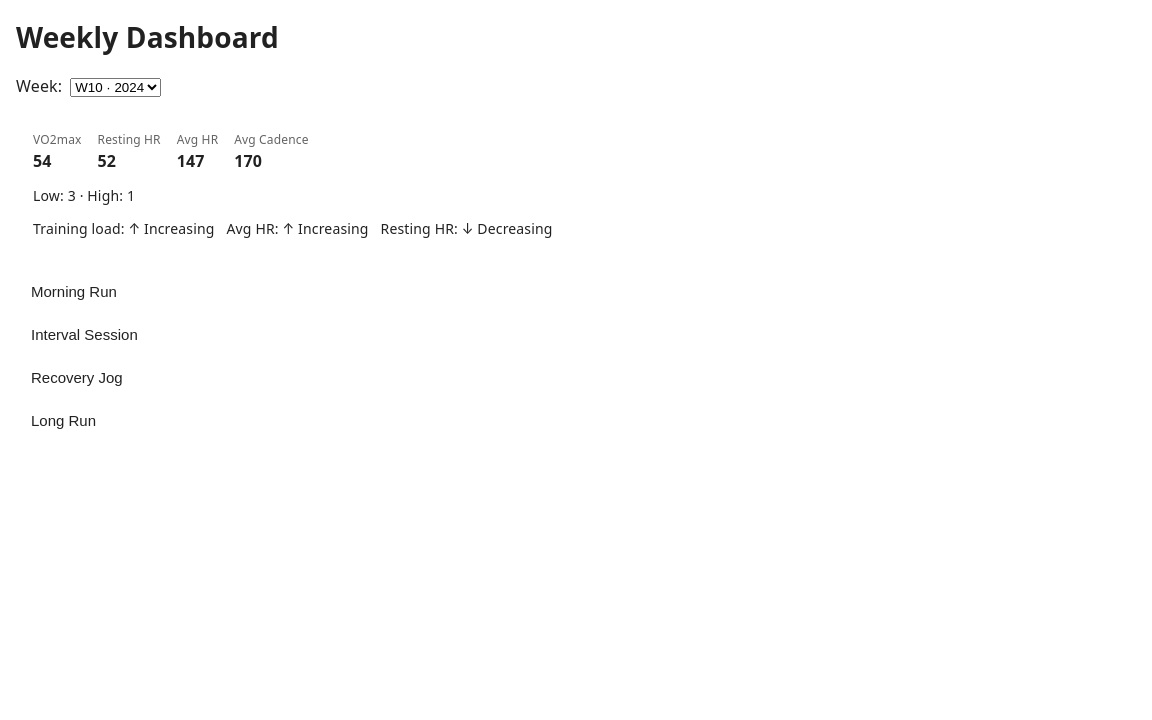
WeeklyDashboard › Activity detail close behavior › clicking same activity again toggles detail off
Select "W10 · 2024" in the dropdown with test id "week-selector": [116, 88] box [70,78,161,97]
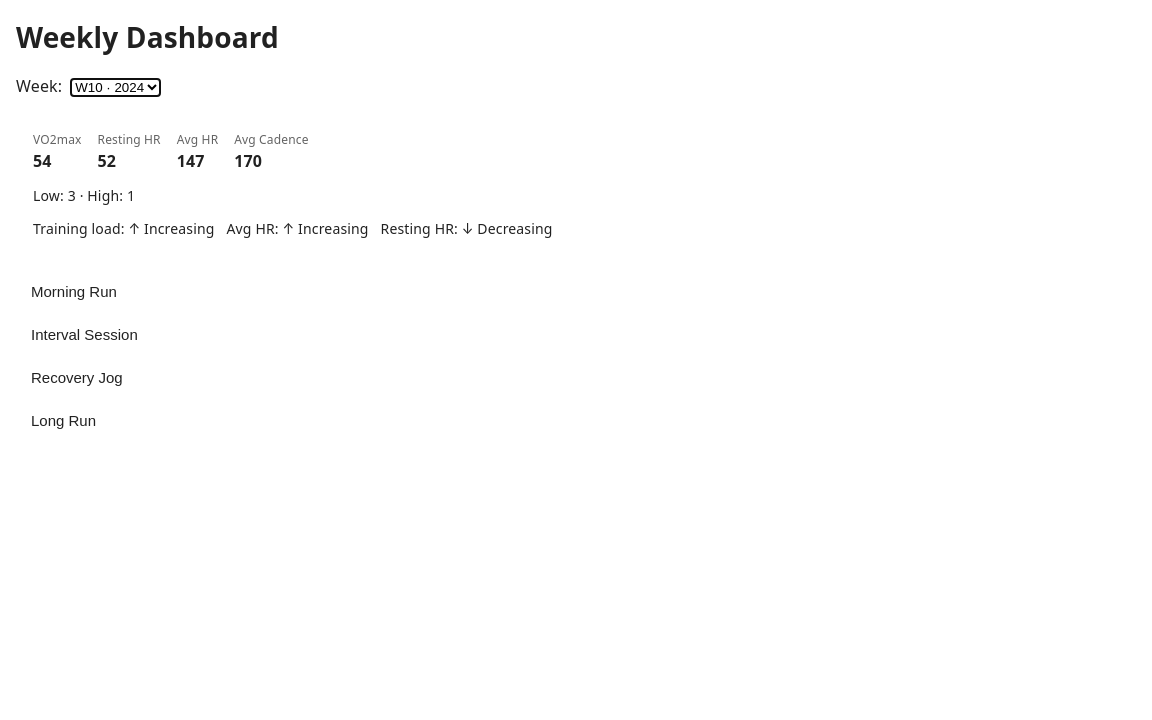
Click the button "Morning Run": [74, 292] box [16,272,1136,311]
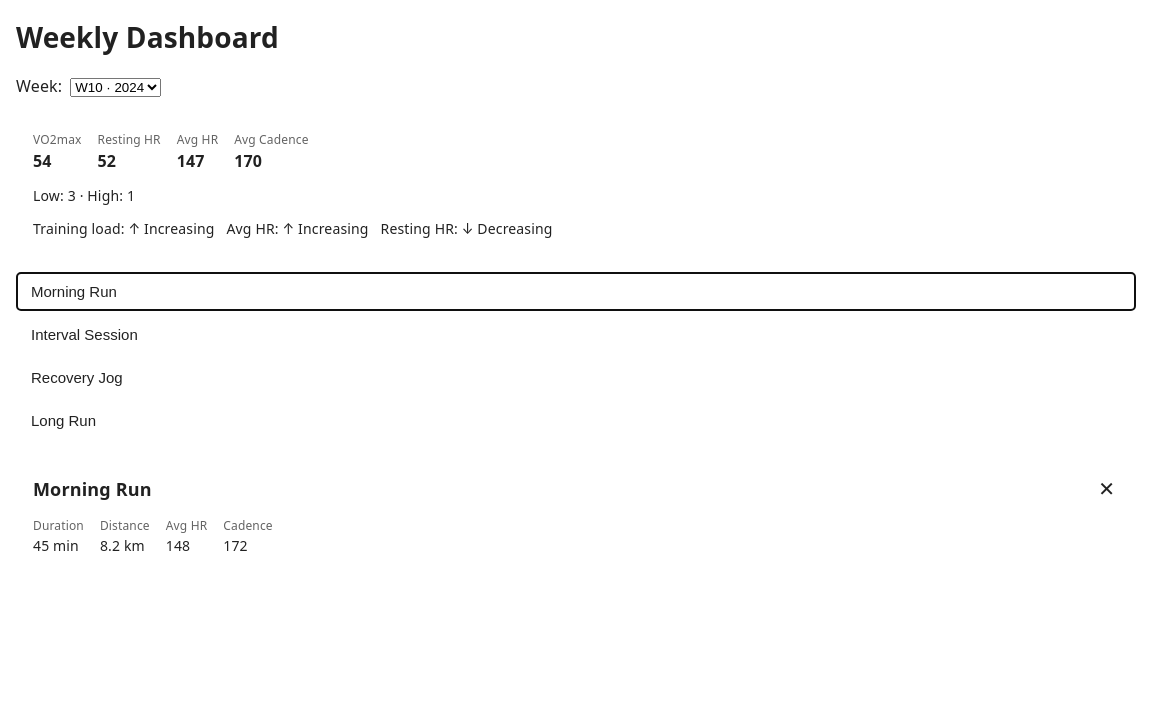
Result: the element with test id "activity-detail" is shown at [16,456,1136,573]
Click the button "Morning Run": [74, 292] box [16,272,1136,311]
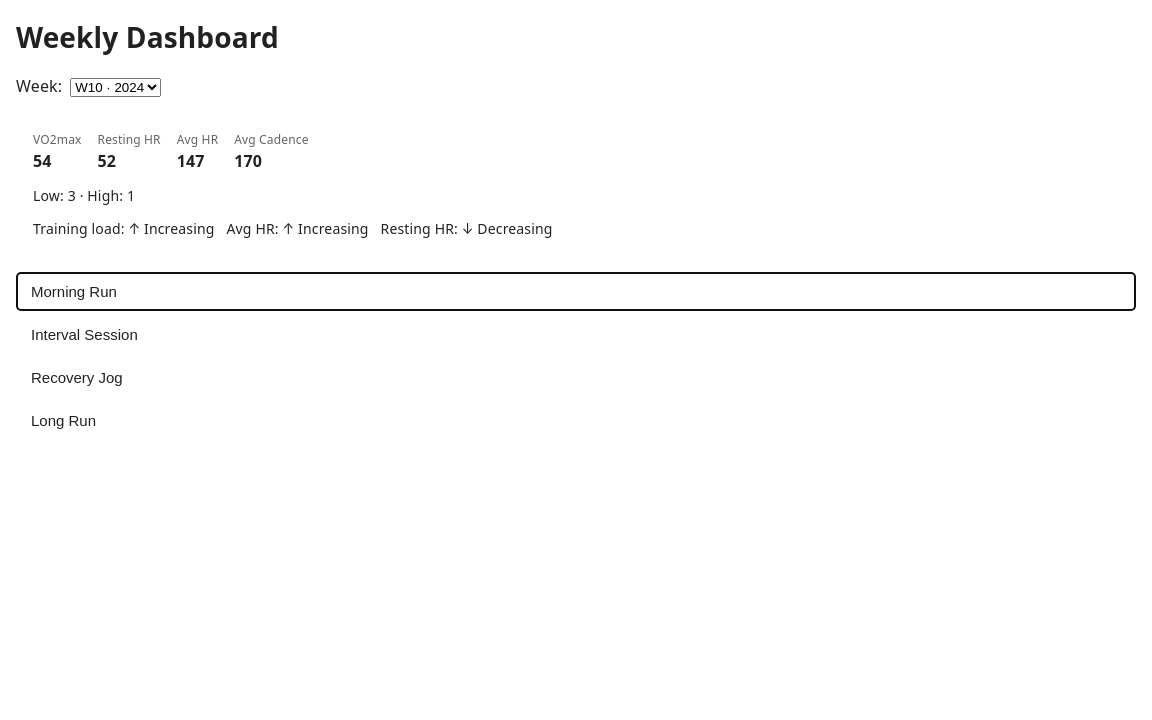
Result: the element with test id "activity-detail" is gone
